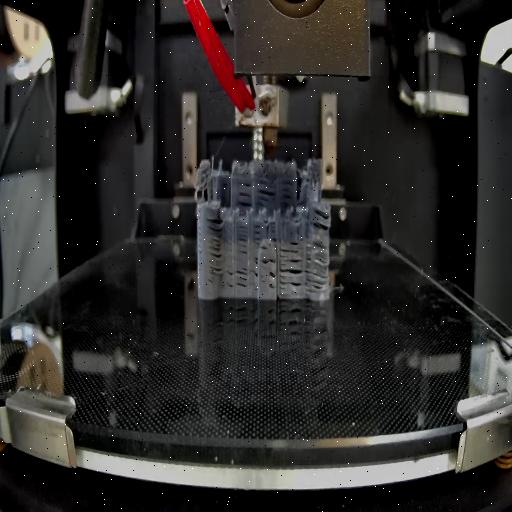cracks: (305, 242, 327, 292), (208, 216, 224, 277), (280, 260, 302, 294), (223, 266, 247, 290), (312, 205, 330, 233), (256, 182, 276, 206), (235, 182, 253, 208), (280, 178, 296, 206), (236, 225, 248, 258), (280, 238, 300, 254), (252, 256, 259, 288), (260, 256, 276, 266), (268, 272, 276, 290), (254, 223, 260, 247), (270, 223, 276, 241), (260, 244, 266, 254)
